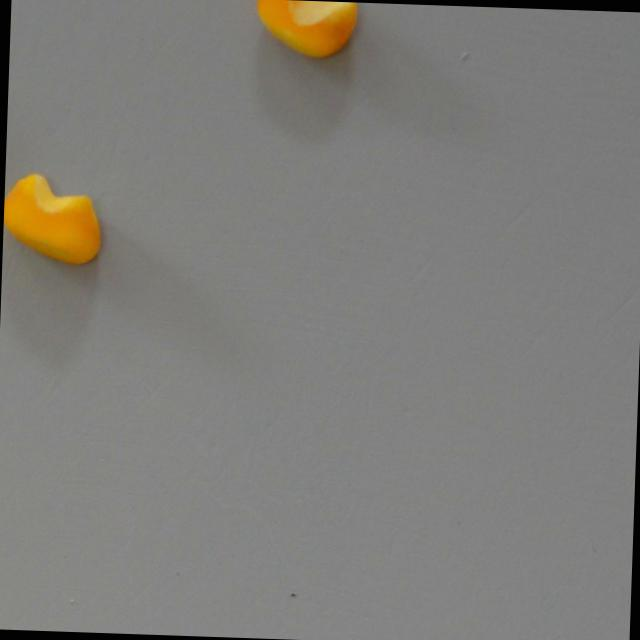no_canjicado: (2, 174, 106, 268), (254, 0, 357, 59)
